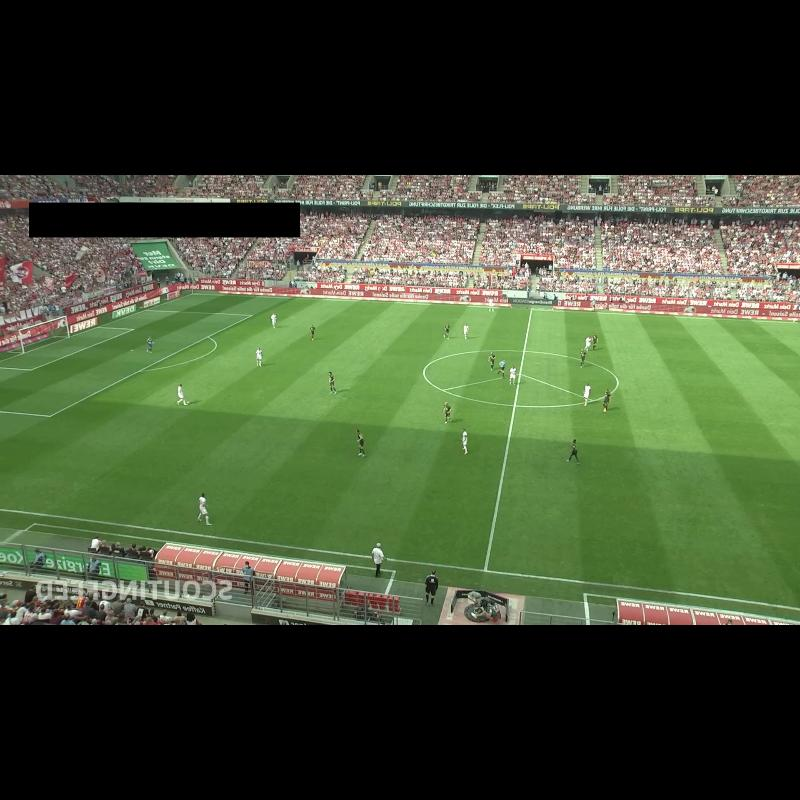cross_recipient_zone: (0, 310, 252, 416)
crossing_player_zone: (0, 411, 167, 514), (147, 294, 356, 319), (715, 319, 800, 345)
pitch: (0, 294, 800, 609)
